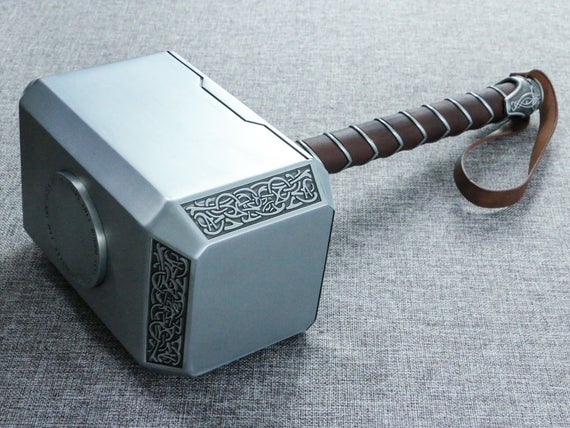THOR Hammer: (13, 63, 543, 357)
